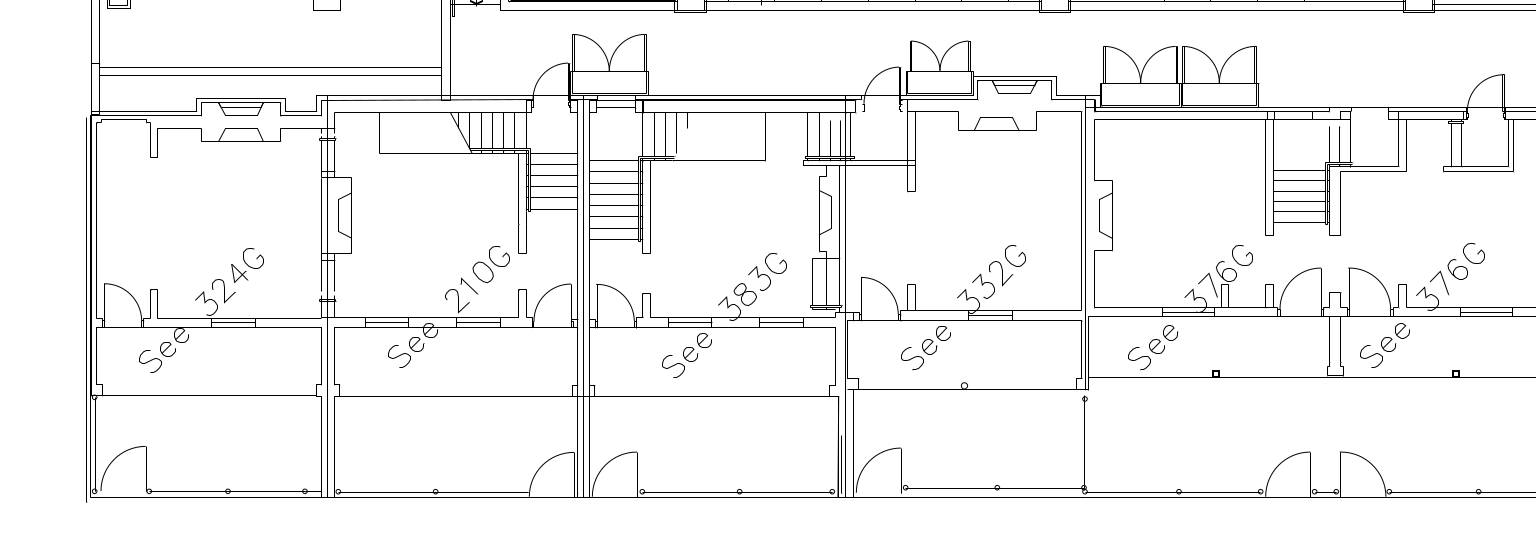door: (1180, 37, 1268, 84), (1092, 38, 1180, 85), (570, 23, 650, 71), (903, 26, 977, 74), (97, 435, 150, 496), (1337, 446, 1387, 501), (1263, 447, 1313, 502), (853, 442, 903, 497), (590, 444, 640, 499), (592, 277, 642, 332), (1456, 60, 1509, 109), (530, 276, 574, 332), (101, 277, 145, 333), (857, 270, 900, 323), (1279, 263, 1322, 316), (1347, 261, 1390, 314), (522, 58, 571, 96), (855, 58, 904, 96)
